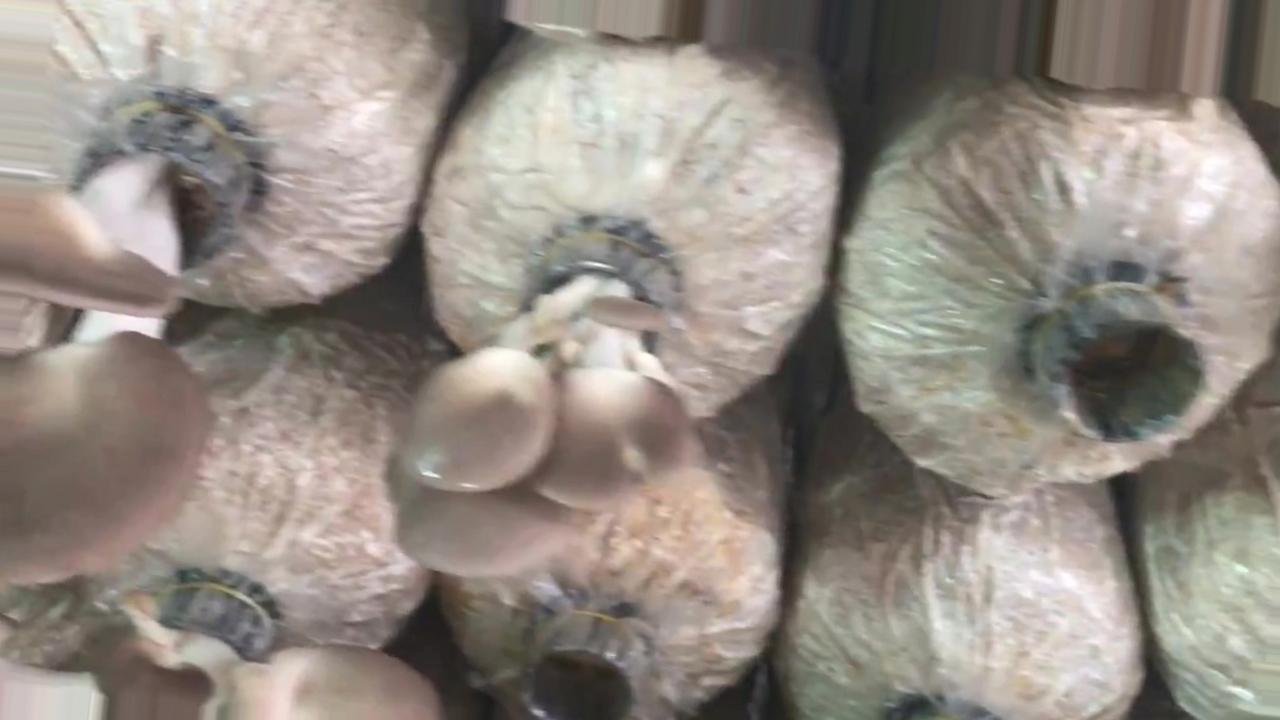nam: (1, 99, 260, 587), (386, 223, 695, 581)
